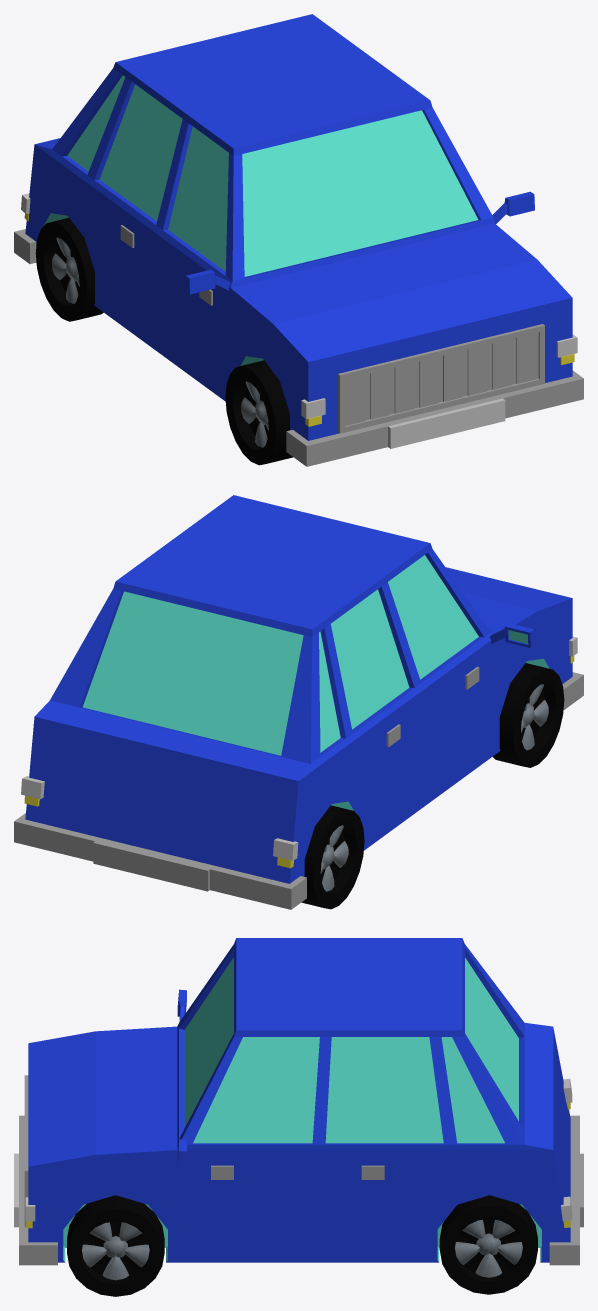
File: car3_H.fbx
3 renders of one model, top to bottom at view 1: azimuth 30°, elevation 25°; view 2: azimuth 150°, elevation 25°; view 3: azimuth 270°, elevation 25°, orthographic. The views are drawn at different scales.
Visible parts, largest first — view 1: Cube.007, Cylinder.015, Cylinder.016; view 2: Cube.007, Cylinder.015, Cylinder.016; view 3: Cube.007, Cylinder.015, Cylinder.016.
Boxes of the visible parts, bbox=[...] form: Cube.007: bbox=[14, 14, 583, 466]; Cylinder.015: bbox=[225, 360, 292, 465]; Cylinder.016: bbox=[35, 218, 103, 321]; Cube.007: bbox=[14, 495, 583, 909]; Cylinder.015: bbox=[493, 663, 564, 767]; Cylinder.016: bbox=[301, 805, 364, 909]; Cube.007: bbox=[14, 938, 583, 1265]; Cylinder.015: bbox=[67, 1195, 164, 1296]; Cylinder.016: bbox=[439, 1195, 537, 1294].
Bounding box in the file's own units: 1.99 × 2.98 × 1.42.
